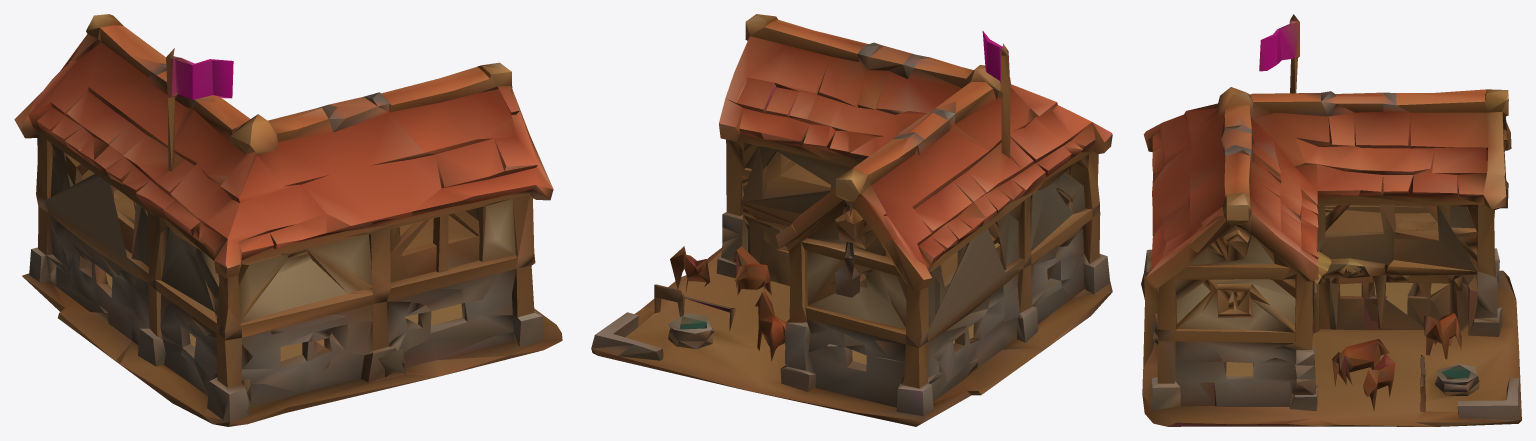
Rendered from stable2.lod2.glb.
3 renders of one model, left to right at view 1: azimuth 30°, elevation 25°; view 2: azimuth 150°, elevation 25°; view 3: azimuth 270°, elevation 25°, orthographic. The views are drawn at different scales.
Visible parts, largest first — view 1: Mesh_0; view 2: Mesh_0; view 3: Mesh_0.
Boxes of the visible parts, box(x1,y1,x2,y2) form: Mesh_0: box(14, 14, 562, 426); Mesh_0: box(591, 14, 1112, 426); Mesh_0: box(1141, 14, 1521, 426).
Bounding box in the file's own units: 1.88 × 1.52 × 1.9.
